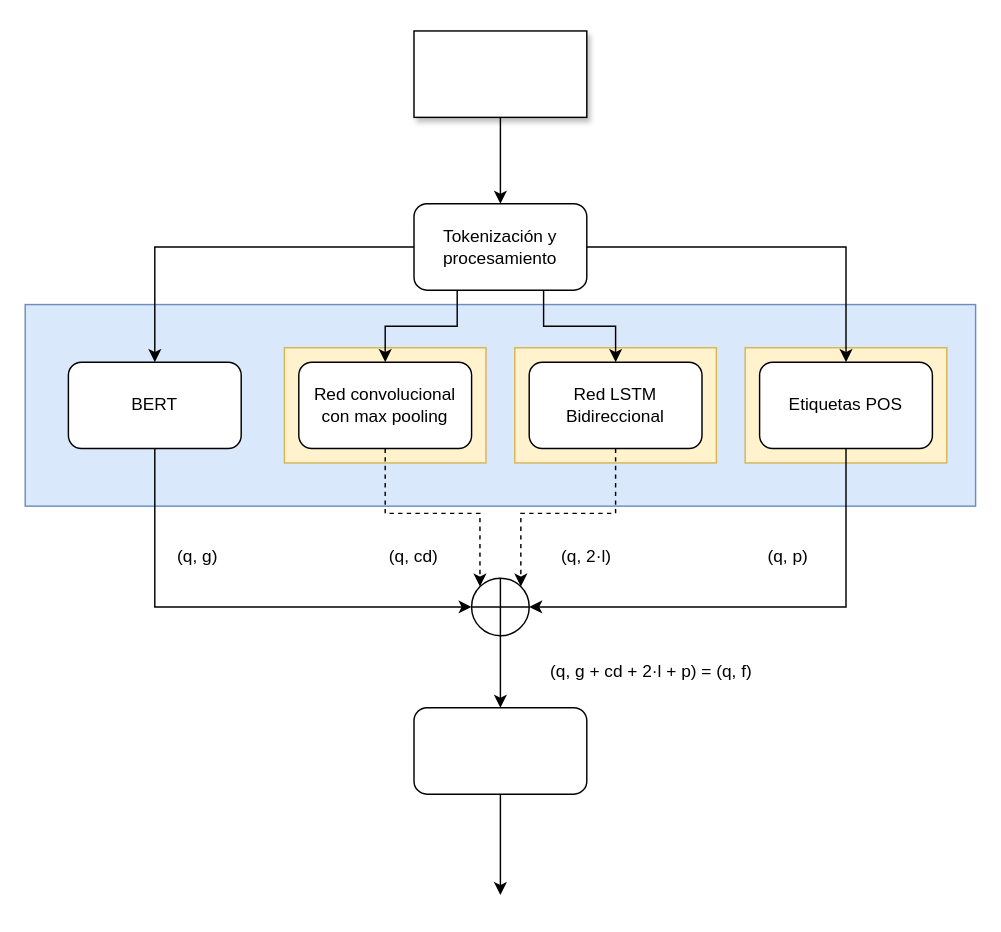
This 1001x932 diagram has some shape labels left out. Each missing label, with the centre of its shape:
Entrada (Texto): point 501,75
Normalización: point 500,750
